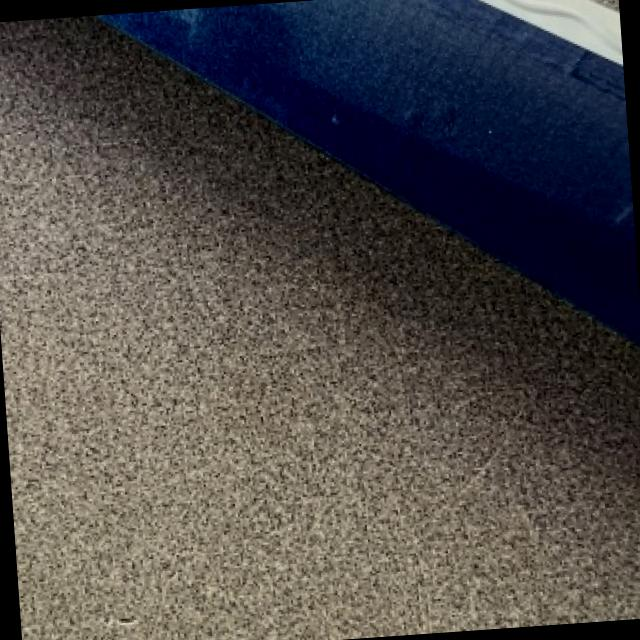healthy: (21, 534, 168, 584)
